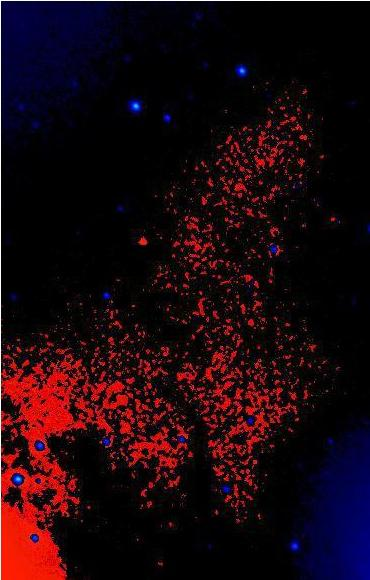star: (127, 224, 157, 254)
